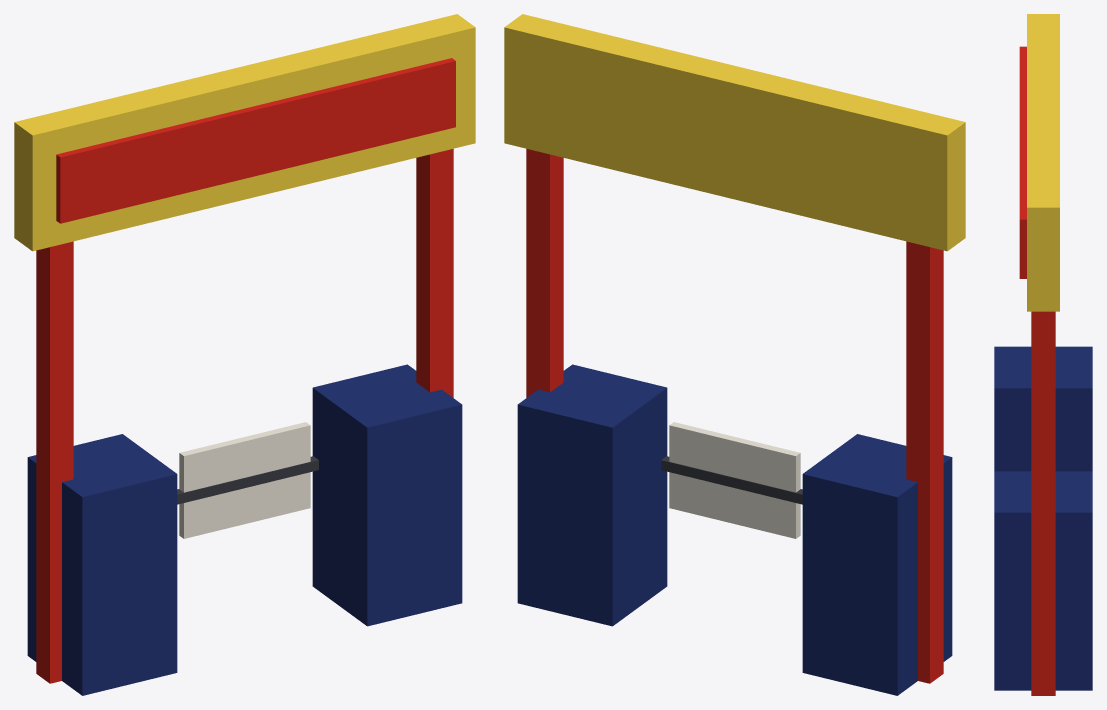
The model's file is ticket_gate.glb.
3 renders of one model, left to right at view 1: azimuth 30°, elevation 25°; view 2: azimuth 150°, elevation 25°; view 3: azimuth 270°, elevation 25°, orthographic. The views are drawn at different scales.
Parts seen in each view (by area): view 1: ticket_gate; view 2: ticket_gate; view 3: ticket_gate.
Boxes of the visible parts, x1,y1,x2,y2 form: ticket_gate: [14, 14, 475, 695]; ticket_gate: [504, 14, 965, 695]; ticket_gate: [994, 14, 1092, 695].
Size of the model in its own units: 2.8 by 3.35 by 0.6.
